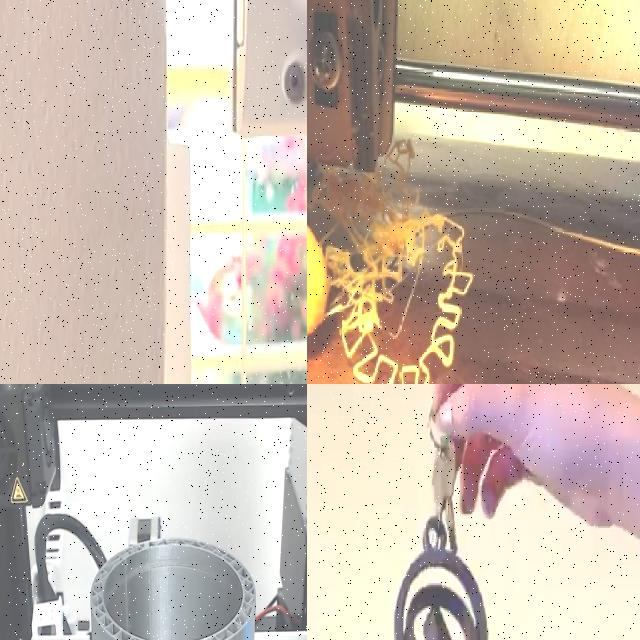spaghetti: (307, 165, 476, 384)
